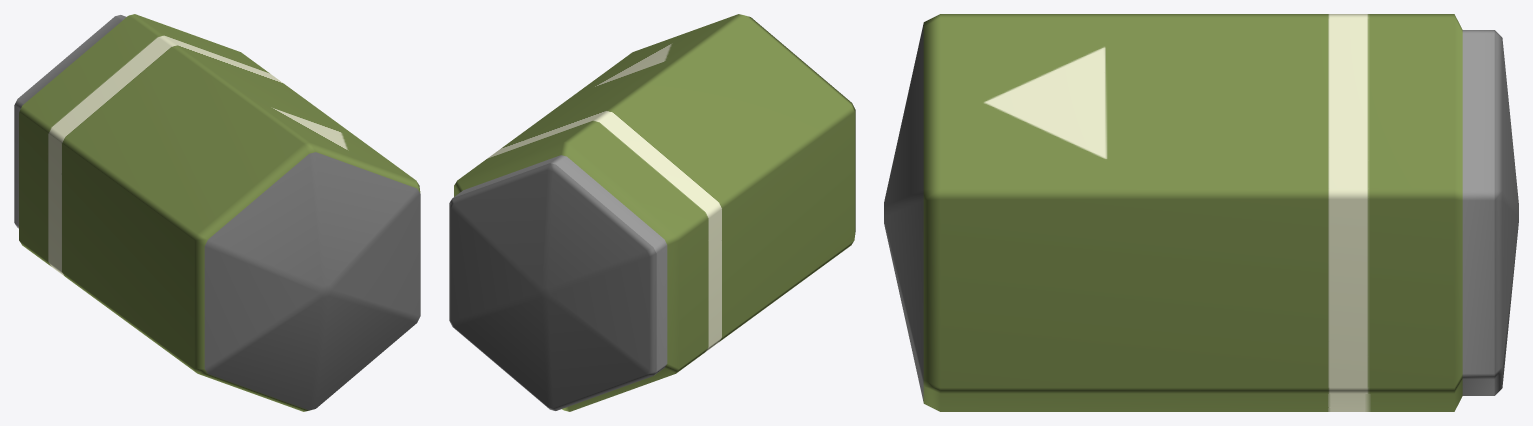
Rendered from magazine.fbx.
3 views of the same model, side by side, from view 1: azimuth 30°, elevation 25°; view 2: azimuth 150°, elevation 25°; view 3: azimuth 270°, elevation 25° (orthographic). The views are drawn at different scales.
Parts seen in each view (by area): view 1: magazine; view 2: magazine; view 3: magazine.
Boxes of the visible parts, left/top/right/bottom form: magazine: left=14, top=14, right=420, bottom=411; magazine: left=449, top=14, right=855, bottom=411; magazine: left=884, top=14, right=1518, bottom=411.
Bounding box in the file's own units: 21.51 × 24.48 × 35.8.
